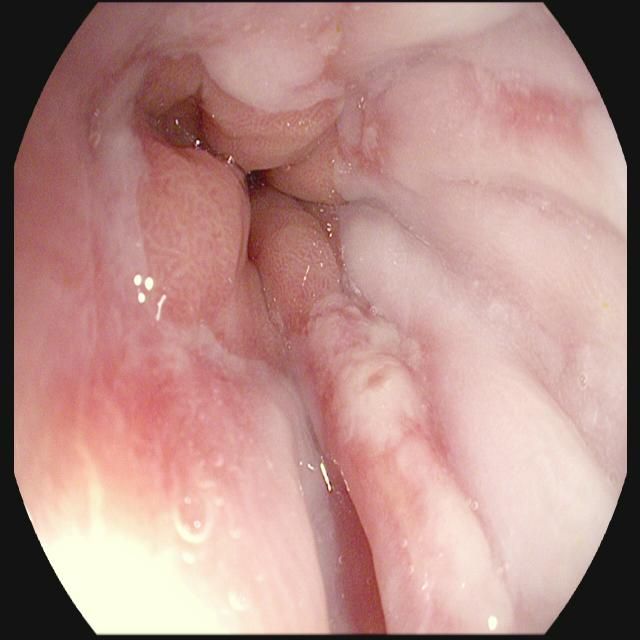esophagitis: (25, 28, 441, 562)
